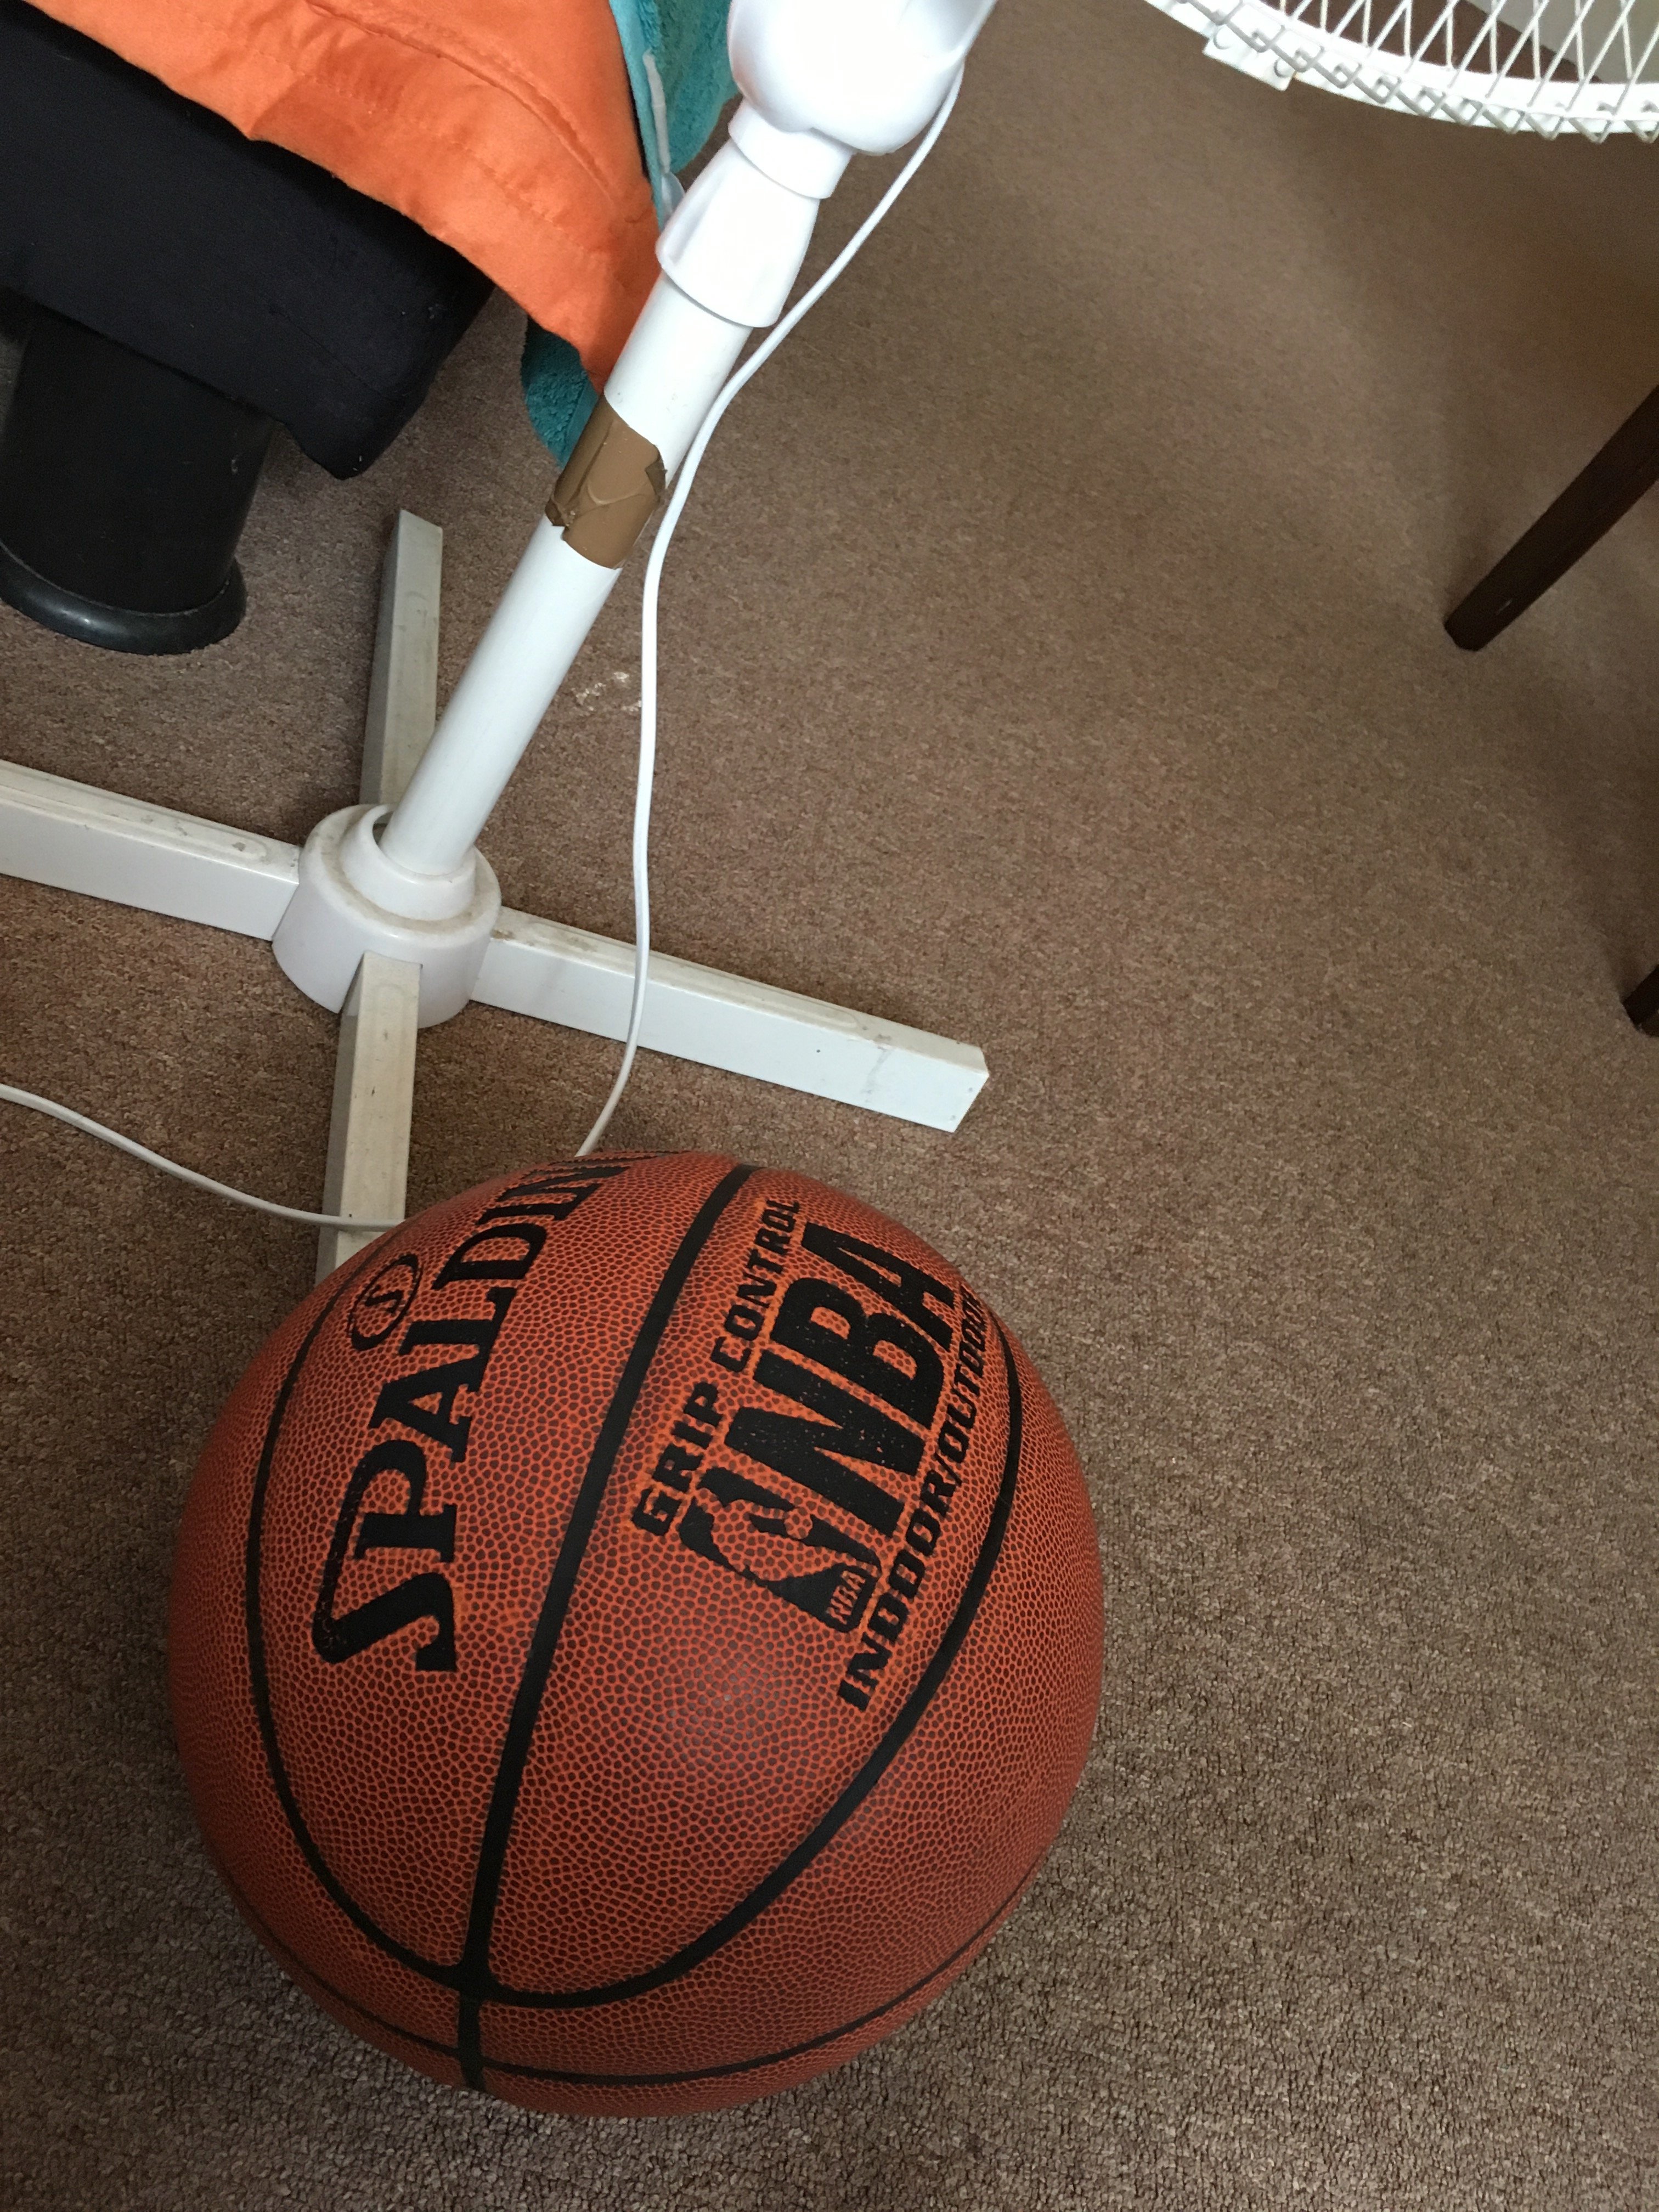Basketball: (146, 1146, 1112, 2130)
